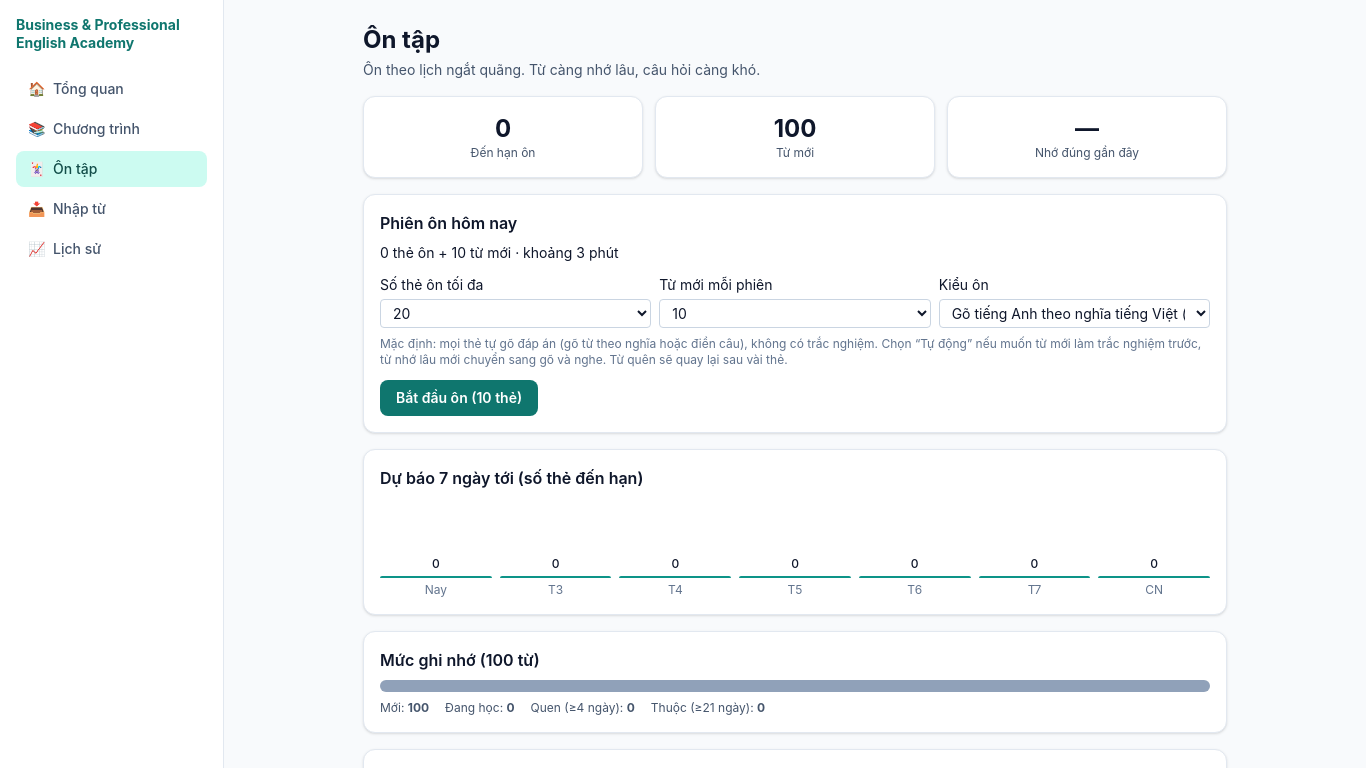
Test: Ôn tập: gõ tiếng Anh theo nghĩa tiếng Việt › từ mới: hiện nghĩa và câu ví dụ tiếng Việt, không có đáp án để chọn, gõ đúng được chấm
Select "1" in the dropdown labelled "Từ mới mỗi phiên" at (795, 314), box [659, 299, 931, 328]
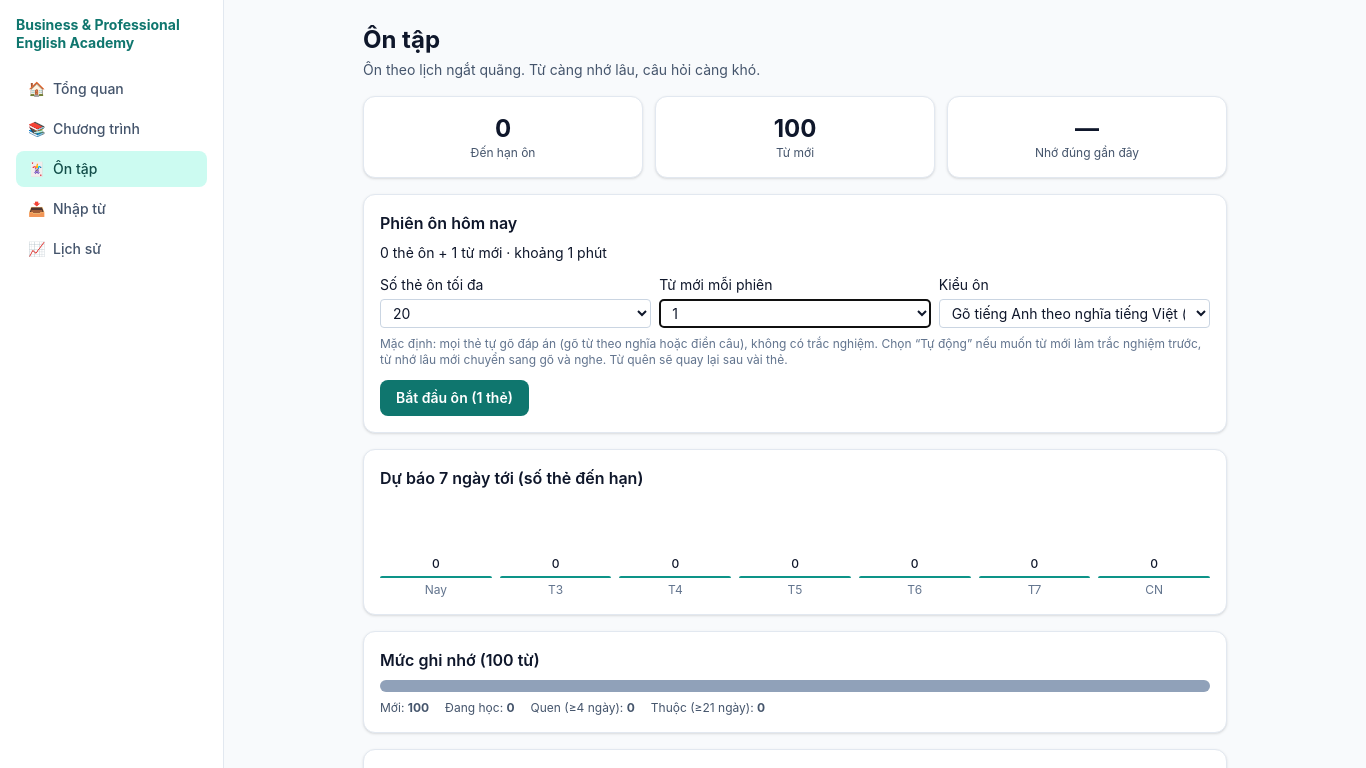
Expected: the dropdown labelled "Kiểu ôn" shows "Gõ tiếng Anh theo nghĩa tiếng Việt (không chọn) (mặc định)", [939, 299, 1210, 328]
Click the button "Bắt đầu ôn (1 thẻ)" at (454, 398), box [380, 380, 529, 416]
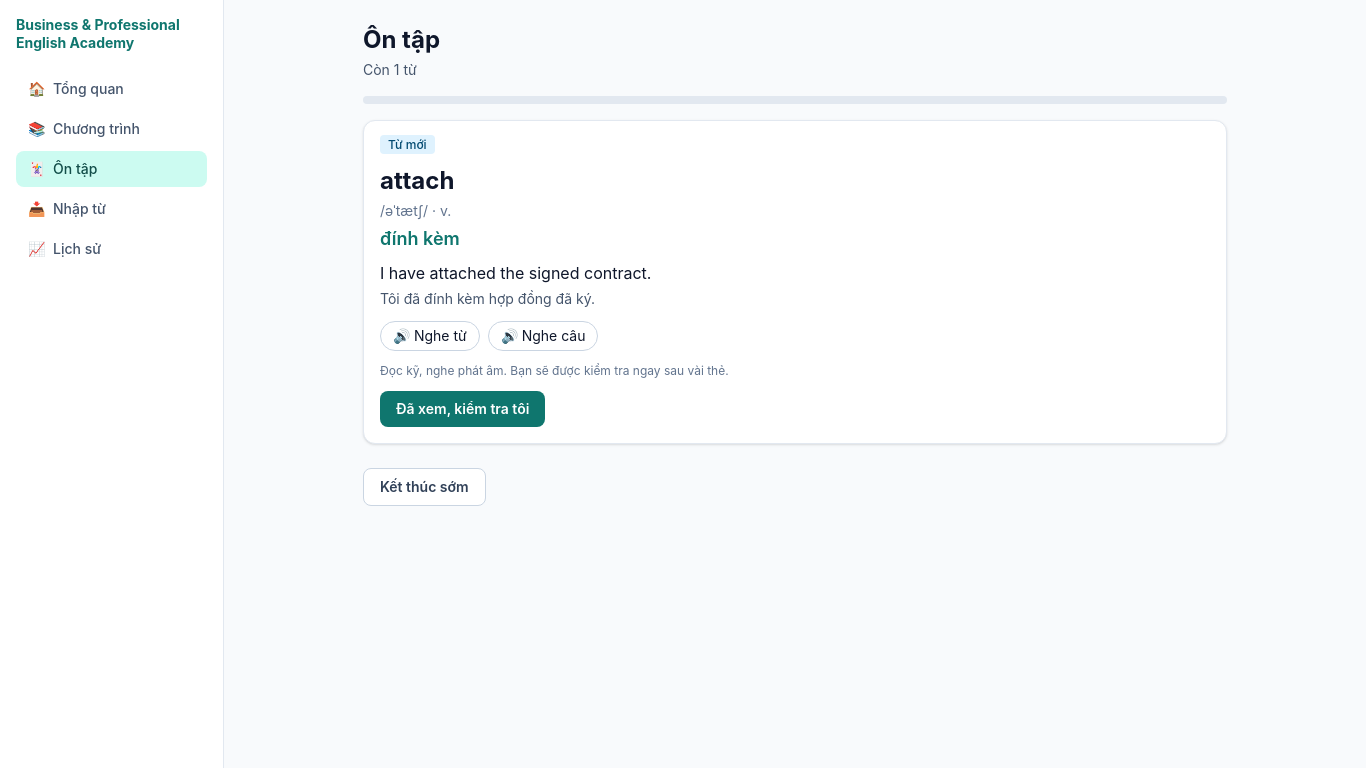
Click the button "Đã xem, kiểm tra tôi" at (463, 409), box [380, 391, 545, 427]
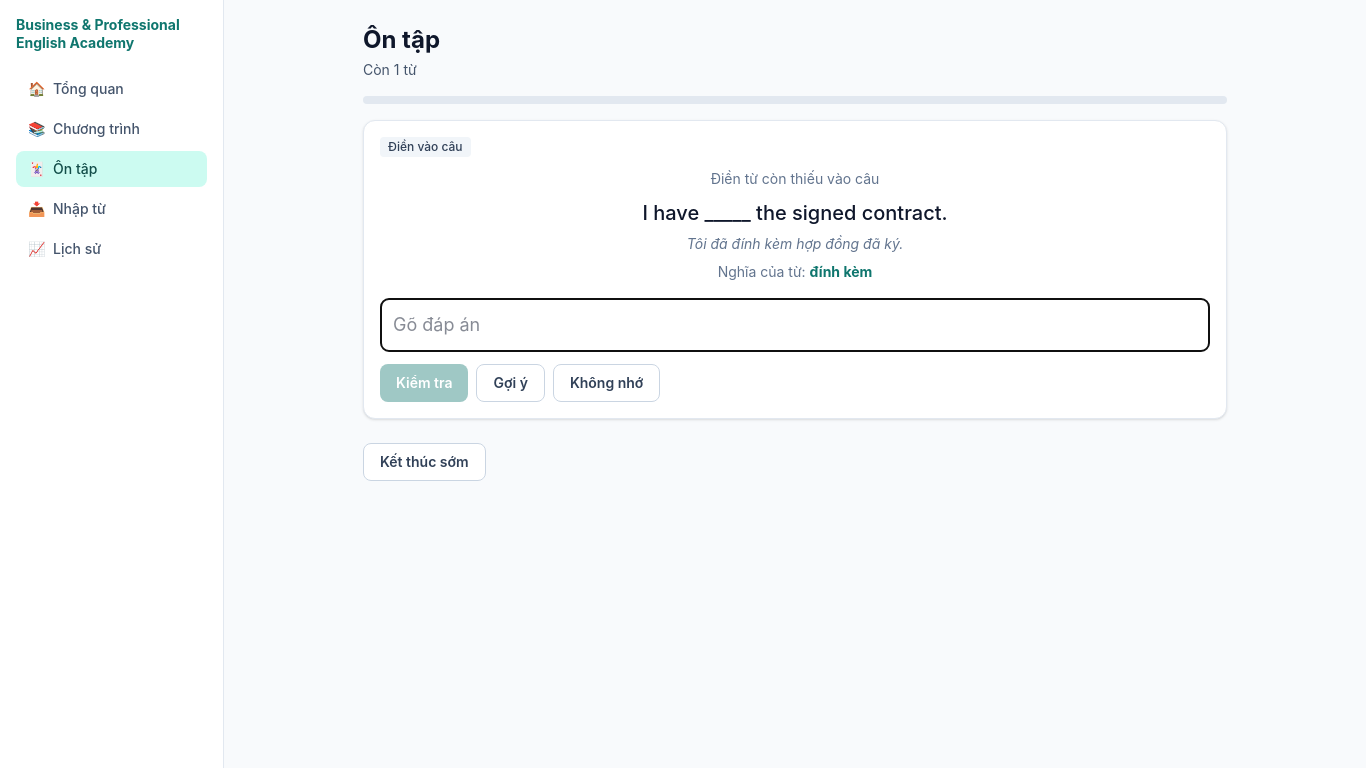
Expected: the text "Tôi đã đính kèm hợp đồng đã ký." is shown, [687, 234, 903, 252]
Expected: the field named "Câu trả lời" is shown
Type "attach" into the field named "Câu trả lời" at (795, 324), box [380, 298, 1210, 352]
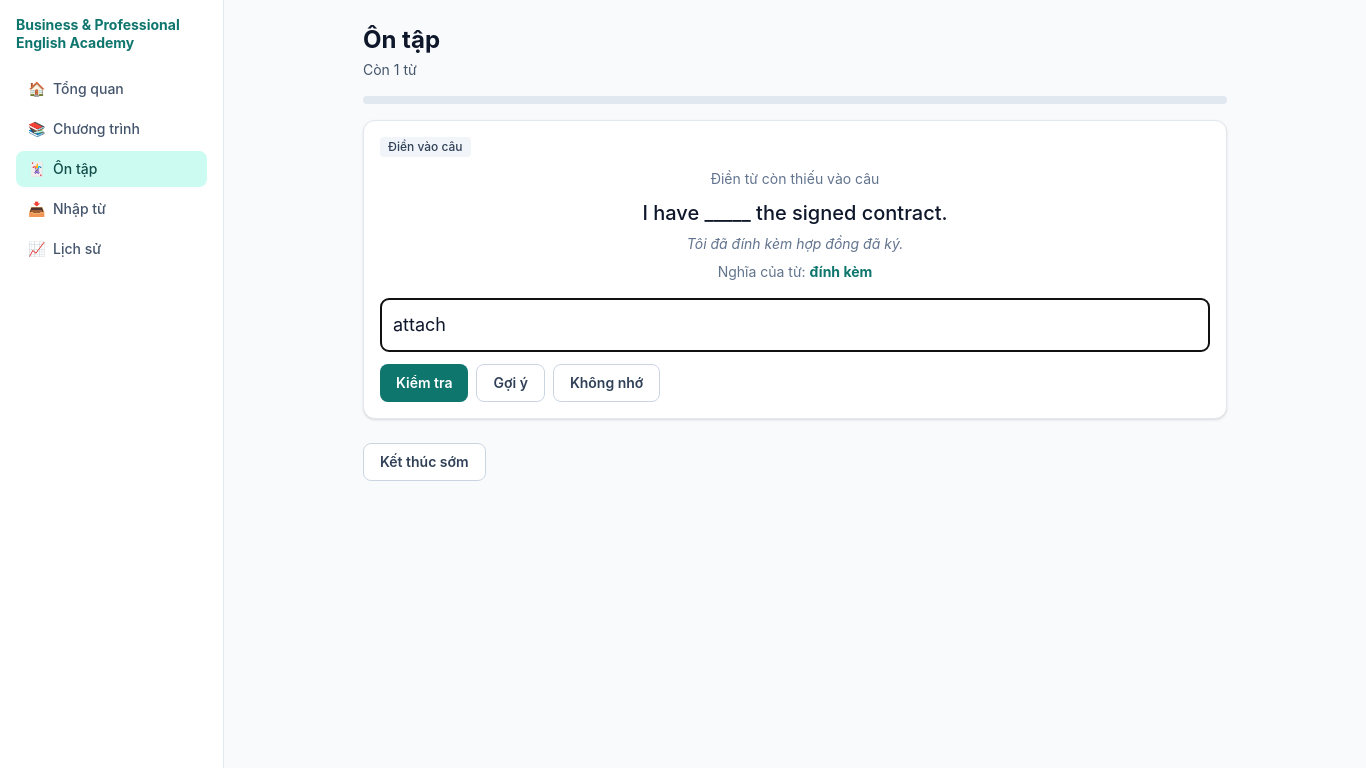
Click the button "Kiểm tra" at (424, 382), box [380, 364, 468, 402]
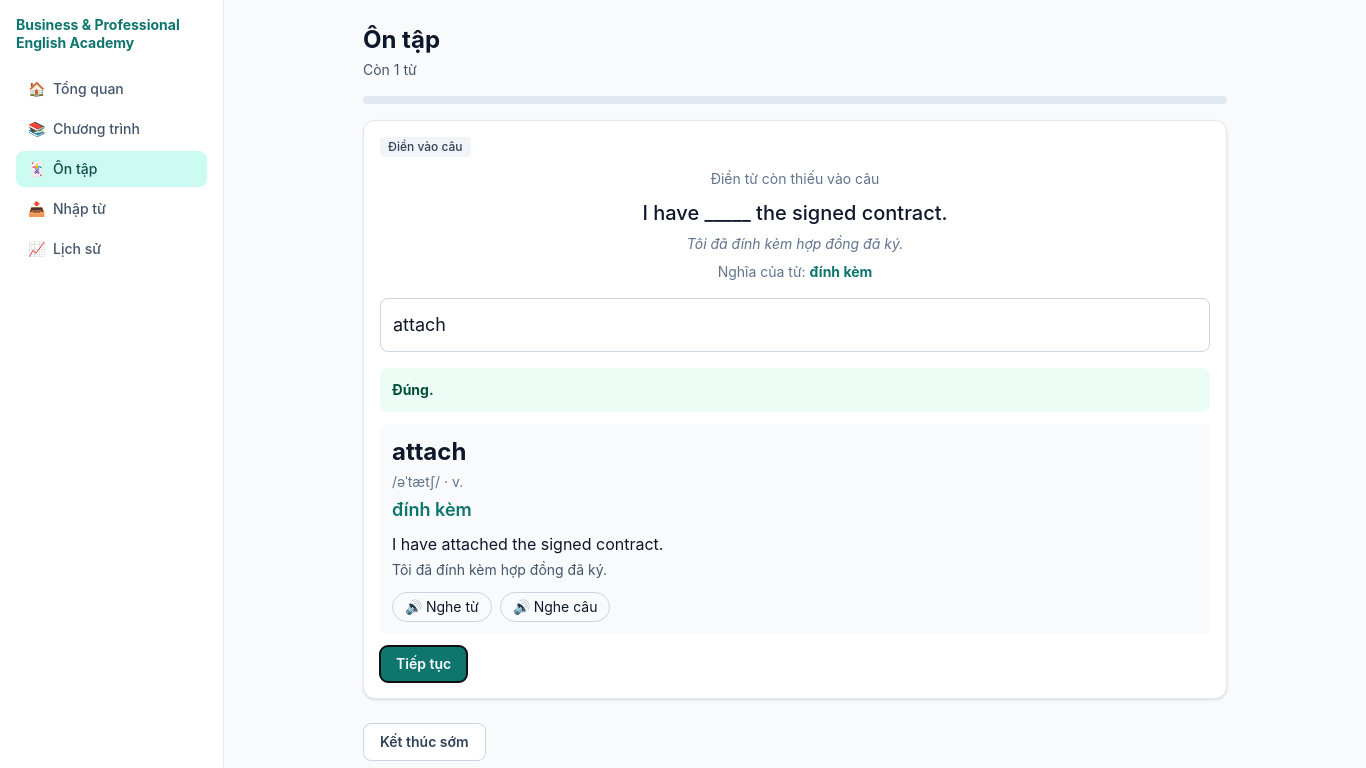
Expected: the text "Đúng." is shown, [392, 380, 434, 398]
